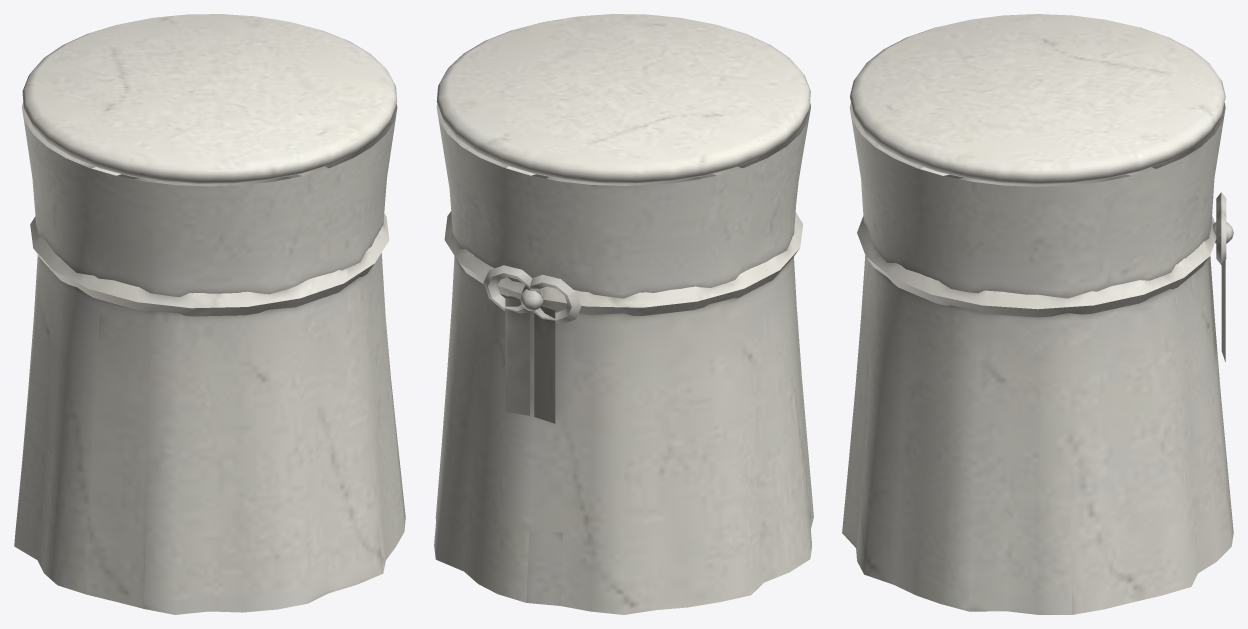
Rendered from hightop.glb.
The picture shows the model from 3 angles, left to right: view 1: azimuth 30°, elevation 25°; view 2: azimuth 150°, elevation 25°; view 3: azimuth 270°, elevation 25°; orthographic projection.
Parts seen in each view (by area): view 1: hightop; view 2: hightop; view 3: hightop.
Part boxes in pixels (x1=…): hightop: x1=14, y1=14, x2=405, y2=614; hightop: x1=434, y1=14, x2=813, y2=614; hightop: x1=842, y1=14, x2=1233, y2=614.
Bounding box in the file's own units: 0.8755 × 1.1 × 0.8752.
1 material, 1 textured.
